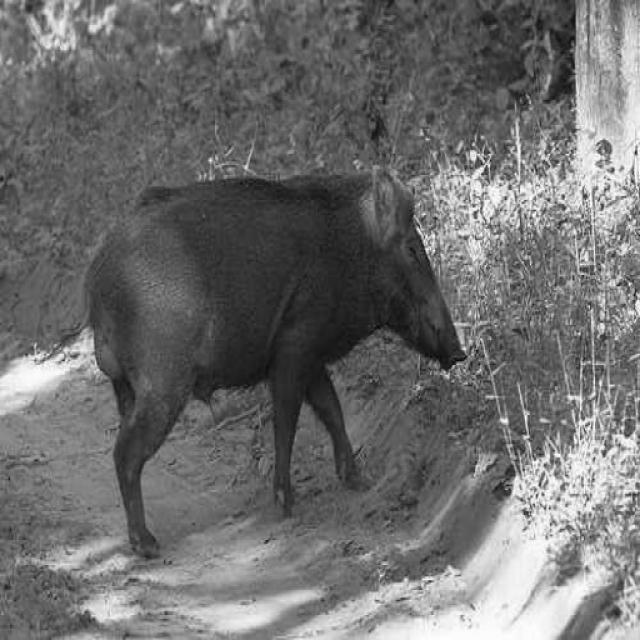WILD BOAR: (76, 116, 568, 524)
